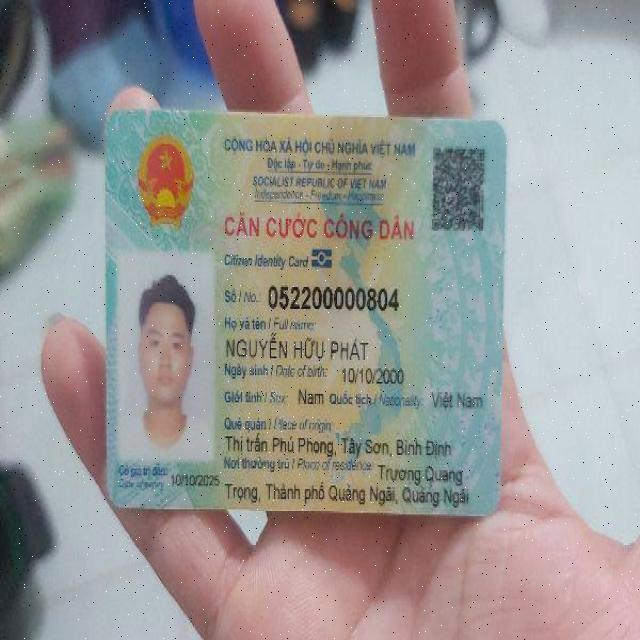current_place: (226, 480, 471, 511), (378, 458, 465, 489)
dob: (340, 362, 416, 388)
expire_date: (169, 468, 218, 493)
gender: (299, 385, 325, 410)
id: (266, 277, 399, 316)
name: (223, 333, 366, 365)
nationality: (430, 376, 488, 417)
origin_place: (223, 428, 457, 462)
qr: (429, 142, 491, 236)
